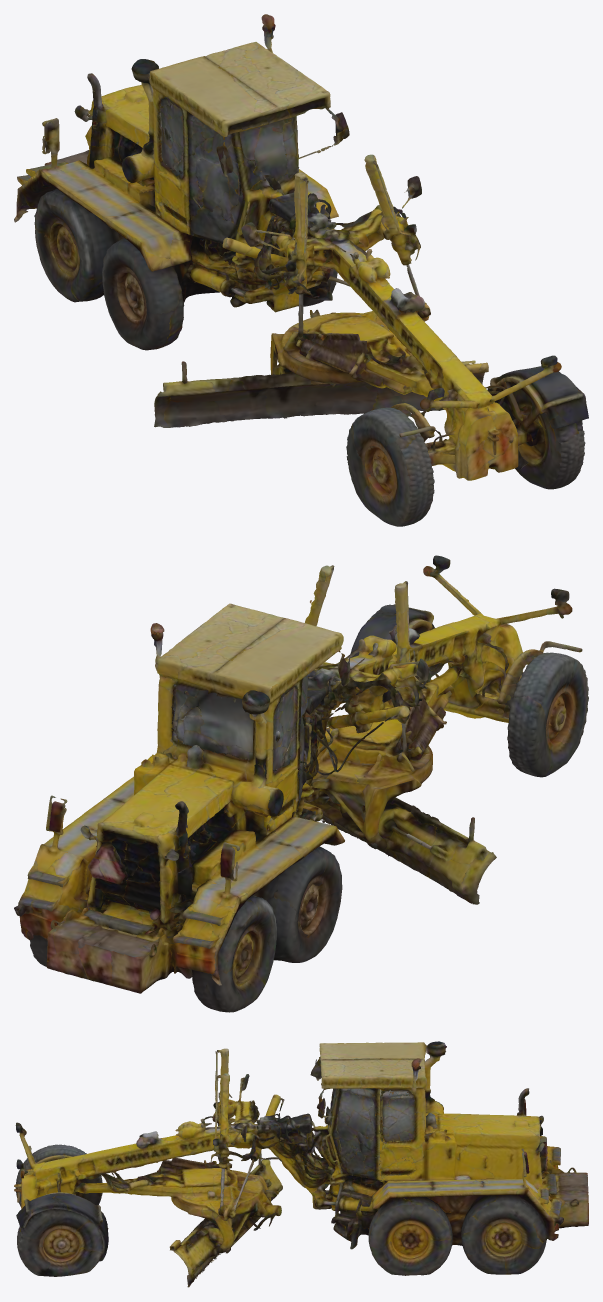
Rendered from road_grader_med.glb.
3 renders of one model, top to bottom at view 1: azimuth 30°, elevation 25°; view 2: azimuth 150°, elevation 25°; view 3: azimuth 270°, elevation 25°, orthographic. The views are drawn at different scales.
Visible parts, largest first — view 1: Object_2; view 2: Object_2; view 3: Object_2.
Boxes of the visible parts, <box> form: Object_2: <box>14,14,588,526</box>; Object_2: <box>14,555,588,1012</box>; Object_2: <box>14,1041,588,1287</box>.
Size of the model in its own units: 3.37 by 3.43 by 8.52.
1 material, 1 textured.
